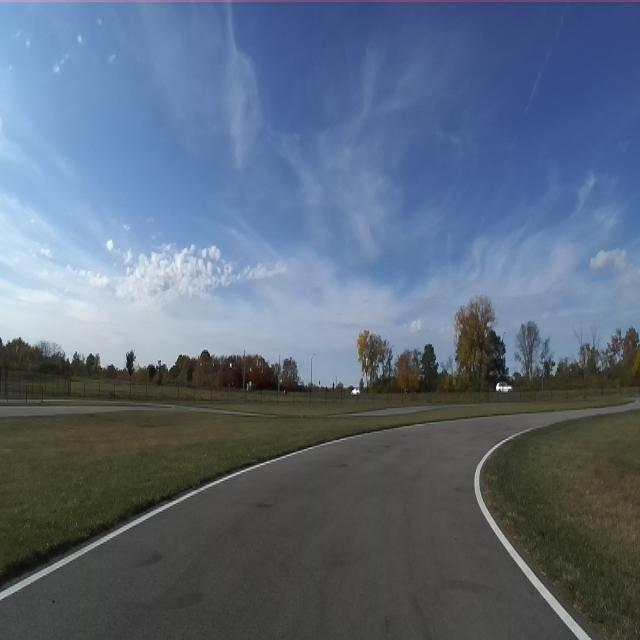white-line: (0, 426, 406, 602), (474, 426, 590, 639)
